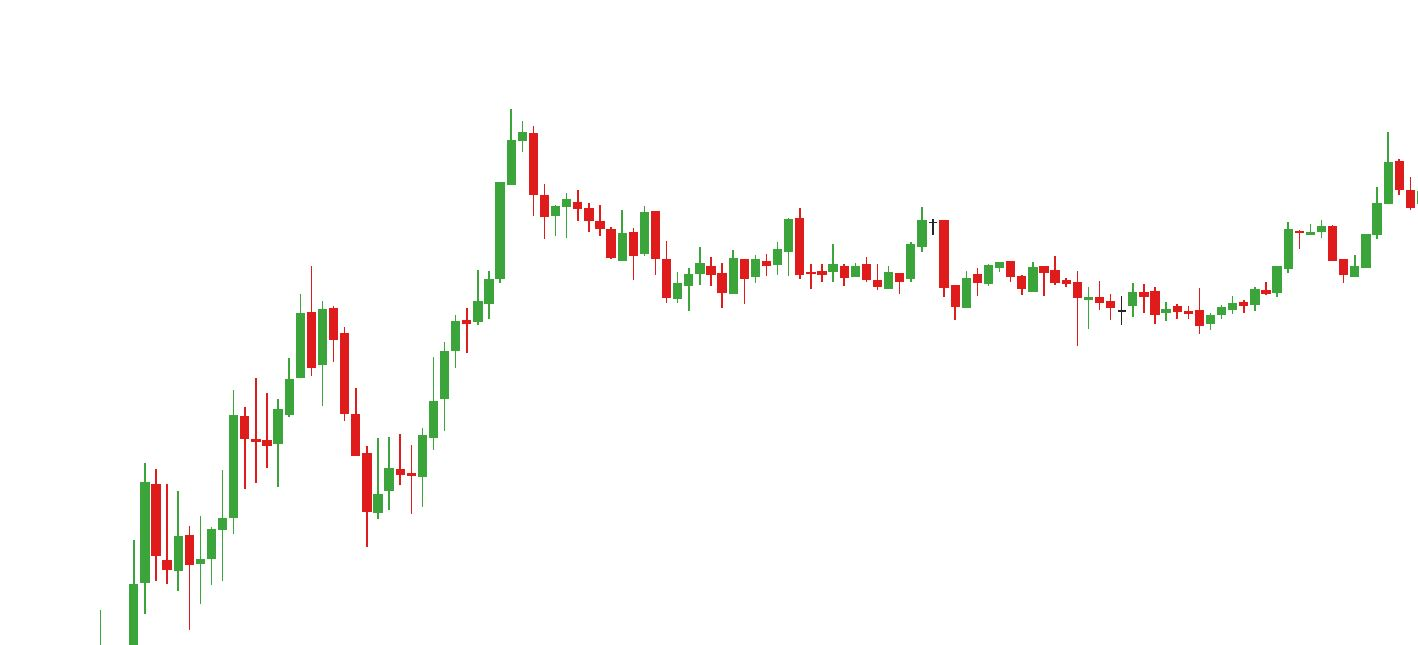buy: (226, 384, 384, 551)
